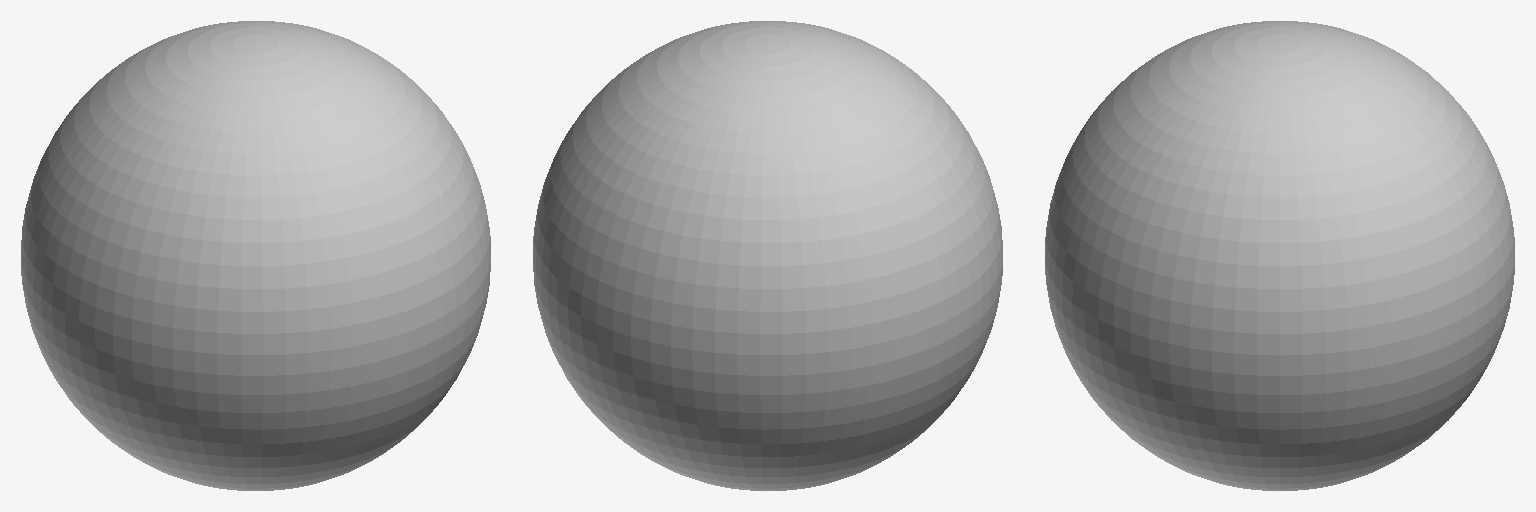
File: Explosion.obj
3 views of the same model, side by side, from view 1: azimuth 30°, elevation 25°; view 2: azimuth 150°, elevation 25°; view 3: azimuth 270°, elevation 25° (orthographic).
Parts seen in each view (by area): view 1: Sphere; view 2: Sphere; view 3: Sphere.
Part boxes in pixels (x1,y1,x2,y2): Sphere: (21, 21, 490, 490); Sphere: (533, 21, 1002, 490); Sphere: (1045, 21, 1514, 490).
Size of the model in its own units: 2 by 2 by 2.